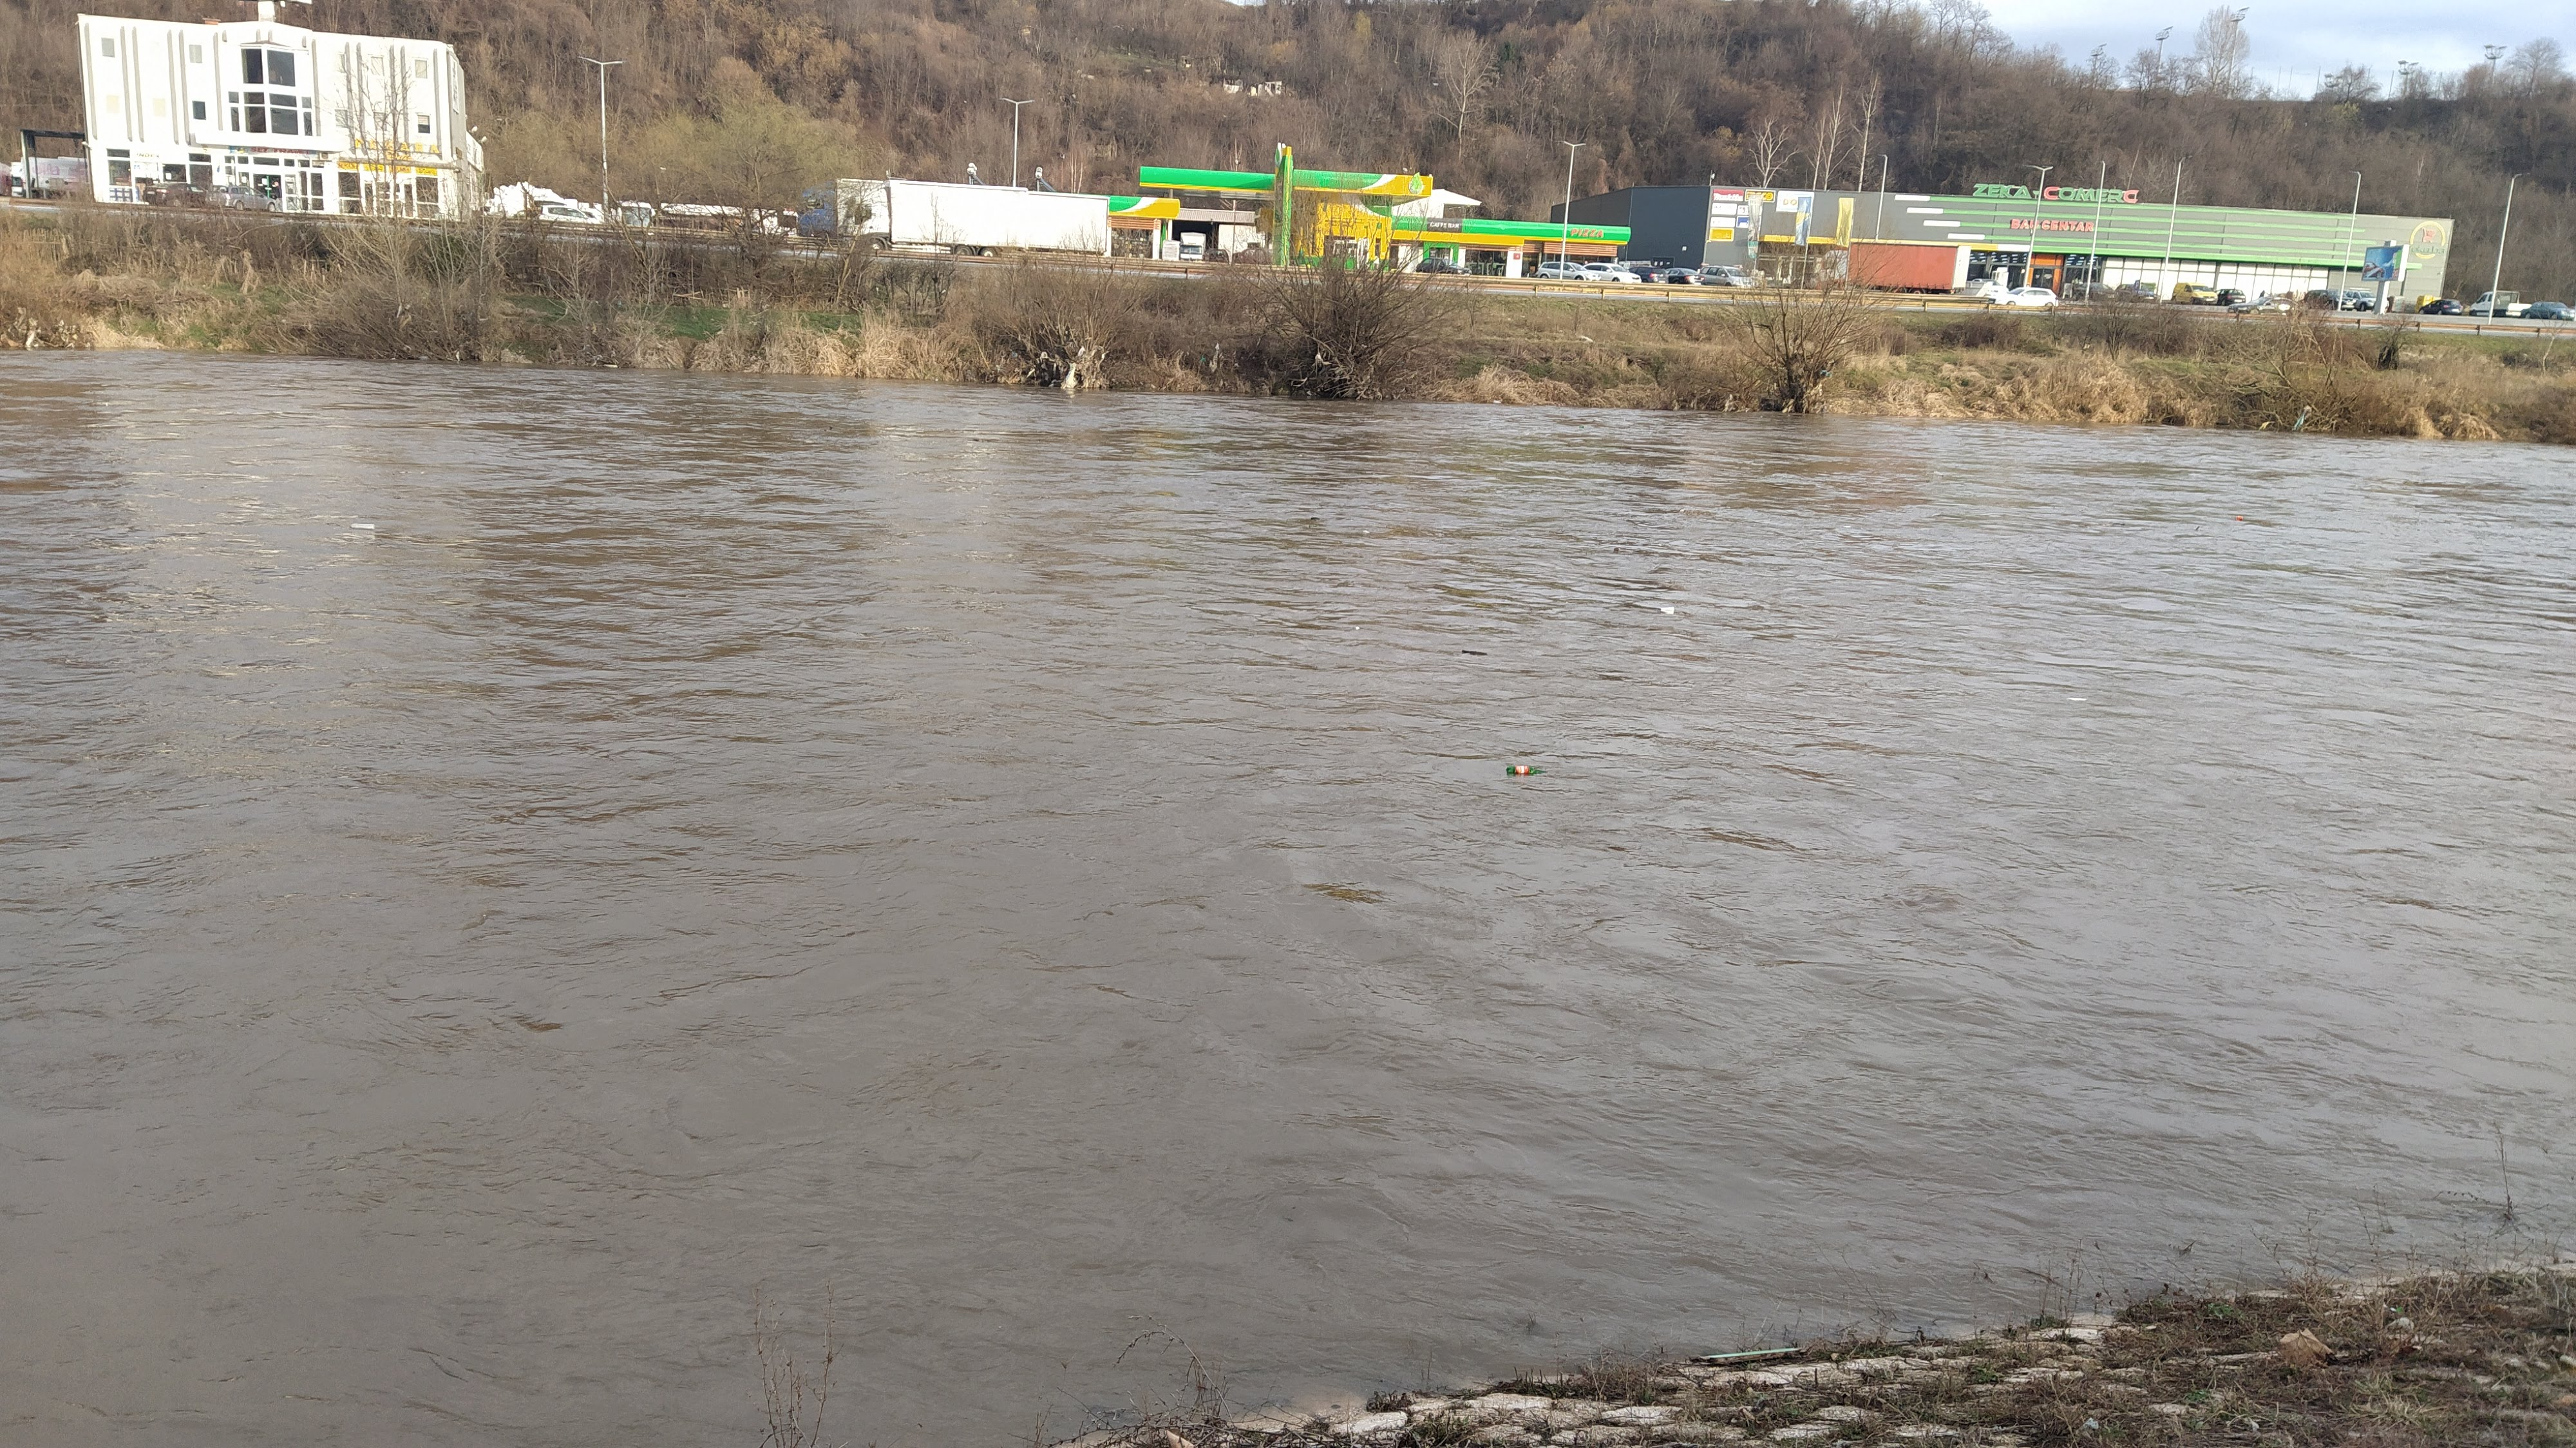Plastic Bottle: (1506, 765, 1546, 775), (350, 522, 375, 529), (1660, 605, 1674, 612), (603, 363, 616, 368), (2236, 515, 2243, 520), (1493, 400, 1500, 404), (1614, 547, 1619, 551), (1580, 425, 1582, 428)
